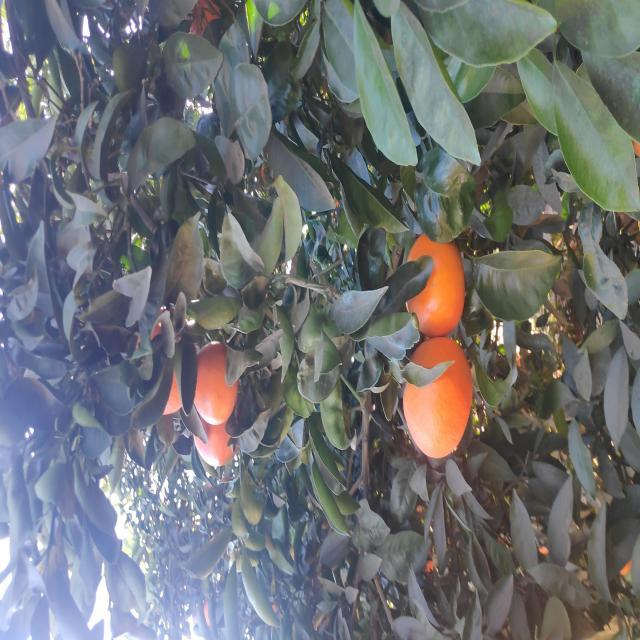Jeruk Sudah Matang: (181, 403, 303, 470), (303, 406, 410, 462), (218, 193, 300, 236), (175, 194, 223, 234), (225, 162, 282, 182)
